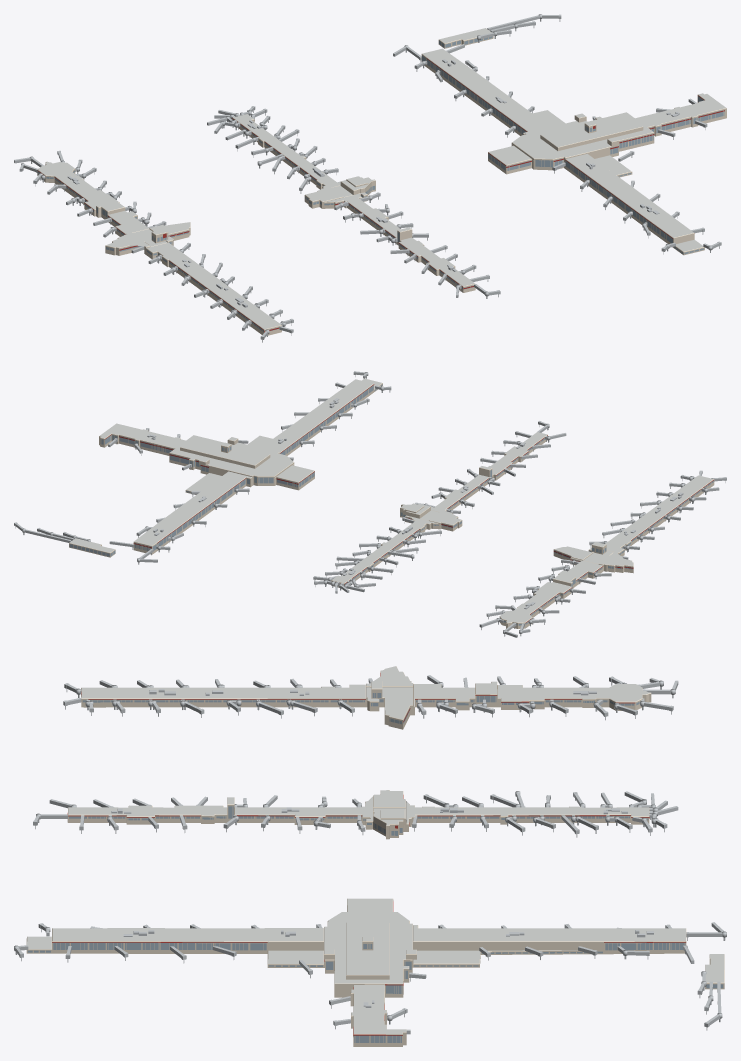
File: atl-hartsfield-jackson-concourses-c-d-e.detail.glb
3 renders of one model, top to bottom at view 1: azimuth 30°, elevation 25°; view 2: azimuth 150°, elevation 25°; view 3: azimuth 270°, elevation 25°, orthographic. The views are drawn at different scales.
Parts seen in each view (by area): view 1: Hartsfield-Jackson Concourses C, D and E; view 2: Hartsfield-Jackson Concourses C, D and E; view 3: Hartsfield-Jackson Concourses C, D and E.
Part boxes in pixels (<box>): Hartsfield-Jackson Concourses C, D and E: <box>14,14,726,342</box>; Hartsfield-Jackson Concourses C, D and E: <box>14,371,726,637</box>; Hartsfield-Jackson Concourses C, D and E: <box>14,666,726,1046</box>.
Size of the model in its own units: 963 by 33.6 by 782.
